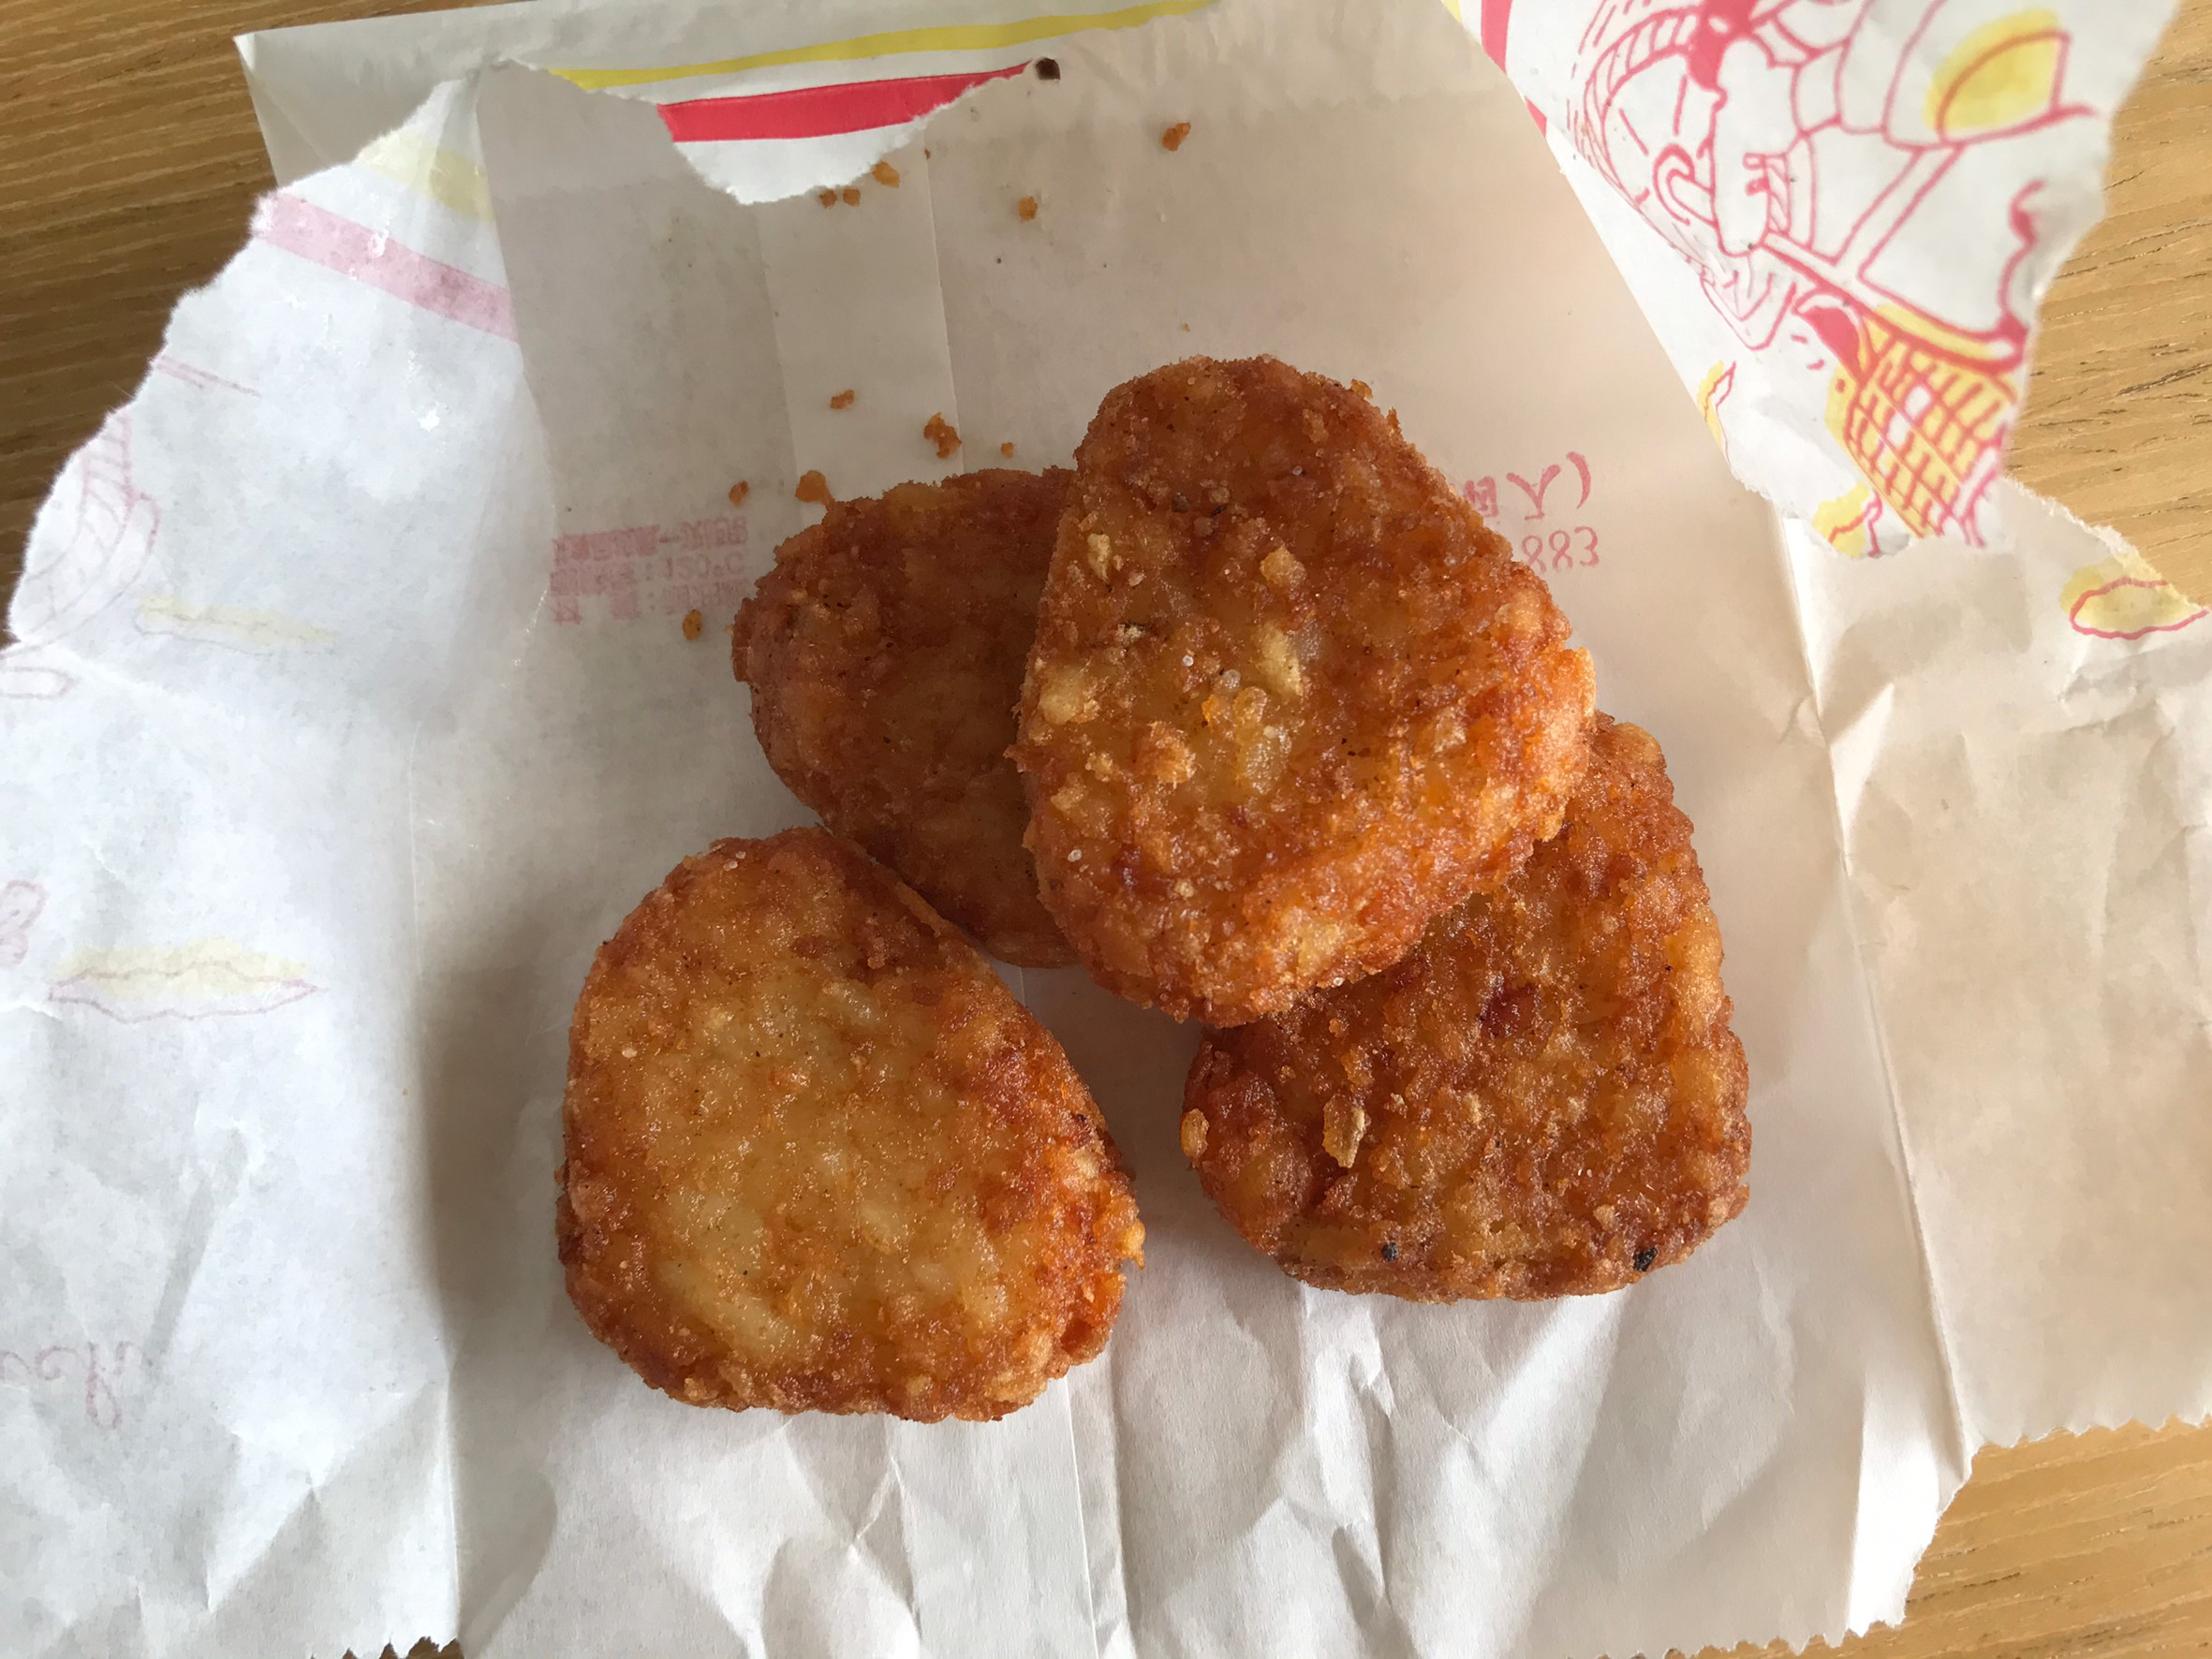triangle_hash_brown: (547, 347, 1764, 1425)
